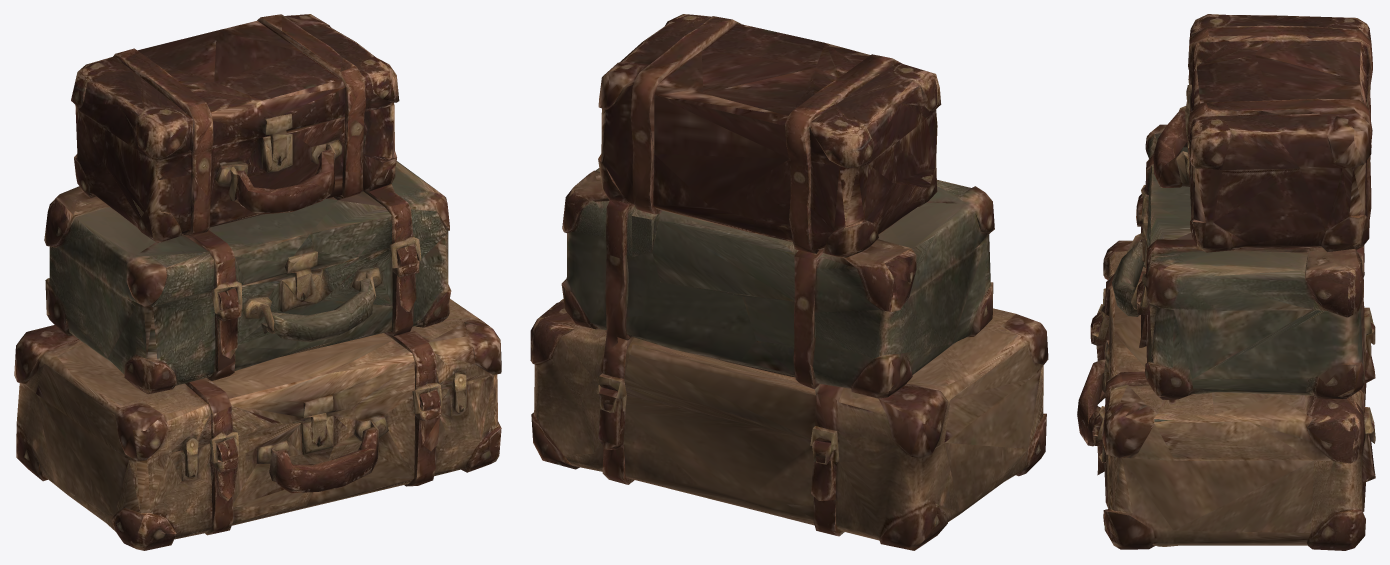
File: up_suitcases.glb
3 views of the same model, side by side, from view 1: azimuth 30°, elevation 25°; view 2: azimuth 150°, elevation 25°; view 3: azimuth 270°, elevation 25° (orthographic). The views are drawn at different scales.
Visible parts, largest first — view 1: up_suitcases; view 2: up_suitcases; view 3: up_suitcases.
Part boxes in pixels (left/top/right/bottom): up_suitcases: left=14, top=14, right=501, bottom=550; up_suitcases: left=530, top=14, right=1048, bottom=550; up_suitcases: left=1077, top=14, right=1375, bottom=550.
Bounding box in the file's own units: 0.5992 × 0.6 × 0.407.
Materials: 1 (1 with a texture image).
